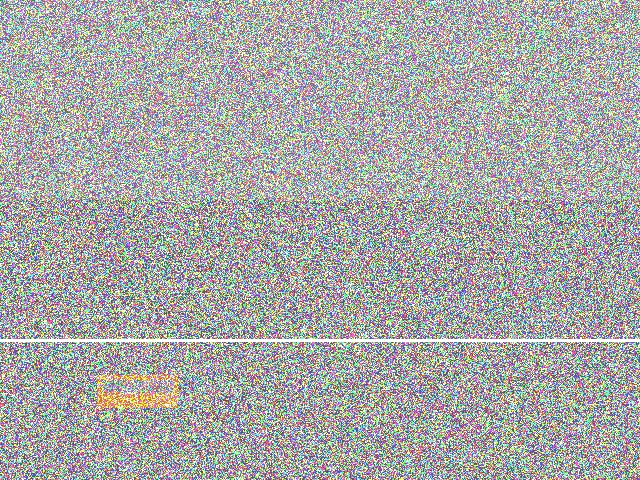bus: (265, 160, 382, 256)
motorcycle: (176, 215, 314, 358)
truck: (453, 390, 556, 455)
